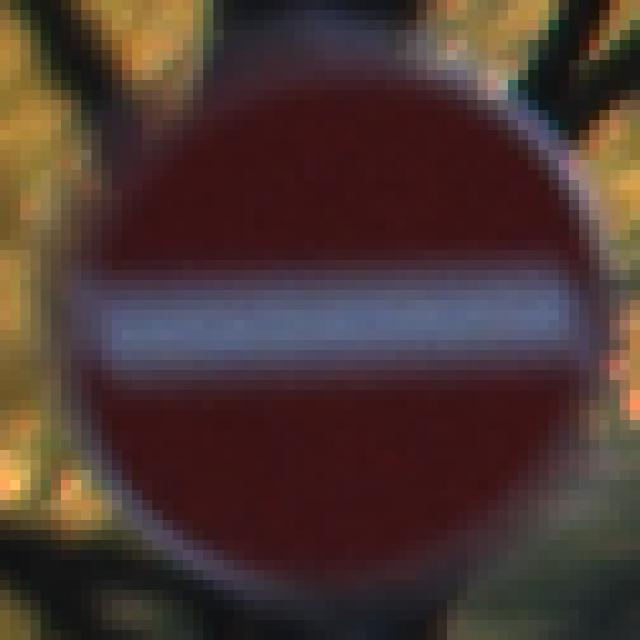no entry: (43, 54, 606, 583)
